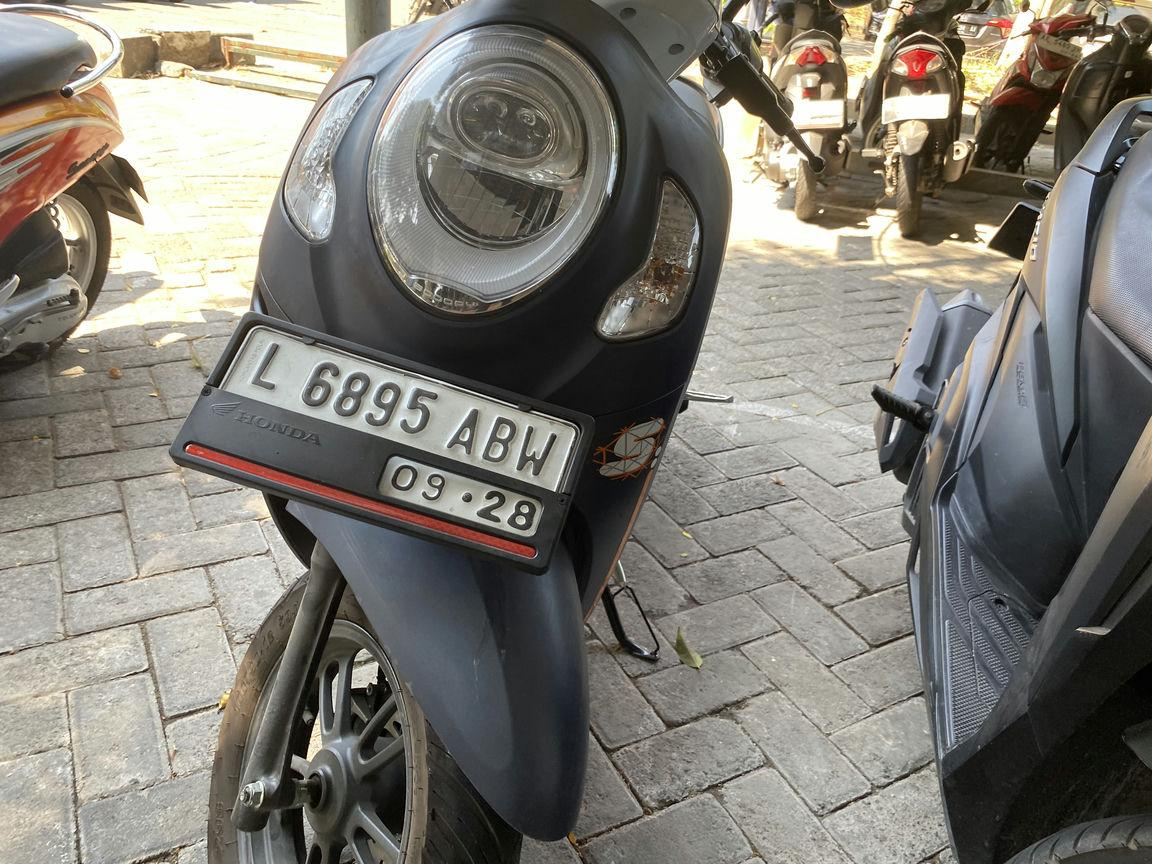plat: (171, 315, 590, 572)
